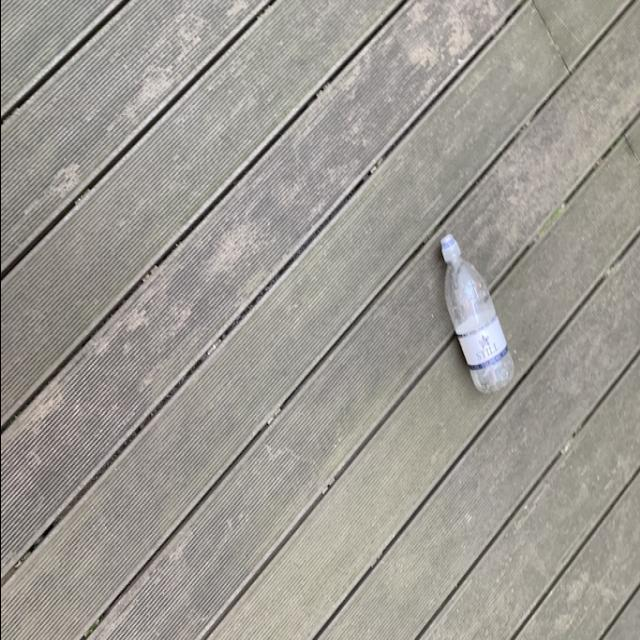litter: (434, 225, 514, 396)
